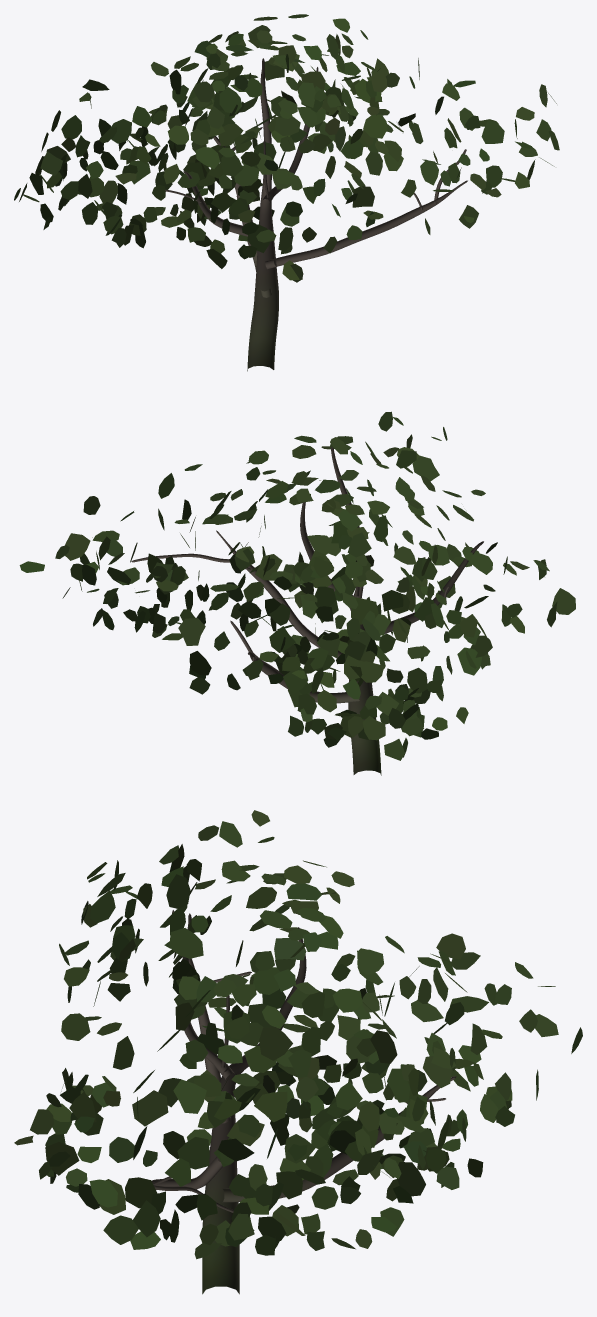
File: SM_TreeFar_oak_2.glb
The picture shows the model from 3 angles, top to bottom: view 1: azimuth 30°, elevation 25°; view 2: azimuth 150°, elevation 25°; view 3: azimuth 270°, elevation 25°; orthographic projection. The views are drawn at different scales.
Parts seen in each view (by area): view 1: SM_TreeFar_oak_2; view 2: SM_TreeFar_oak_2; view 3: SM_TreeFar_oak_2.
Boxes of the visible parts, left/top/right/bottom form: SM_TreeFar_oak_2: left=14, top=14, right=559, bottom=371; SM_TreeFar_oak_2: left=19, top=411, right=575, bottom=775; SM_TreeFar_oak_2: left=14, top=810, right=582, bottom=1294.
Size of the model in its own units: 22.91 by 14.79 by 16.33.
